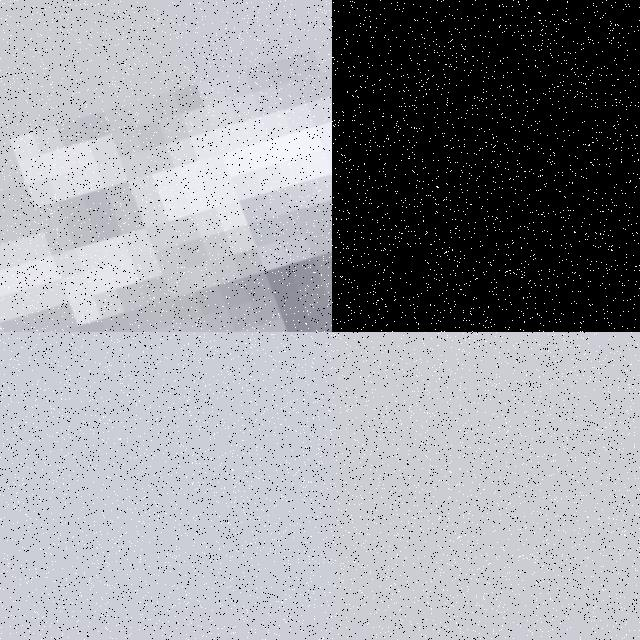0: (0, 0, 332, 332)
drone: (332, 0, 640, 332)
